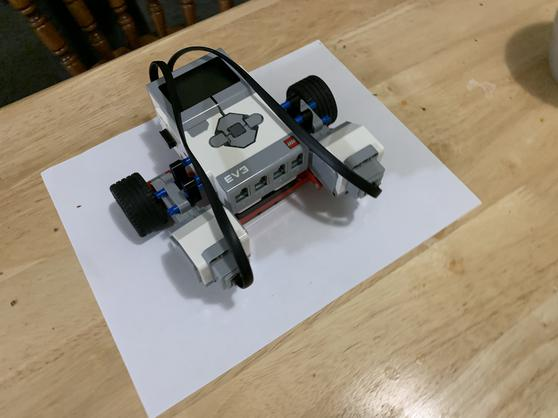robot: (109, 46, 396, 292)
